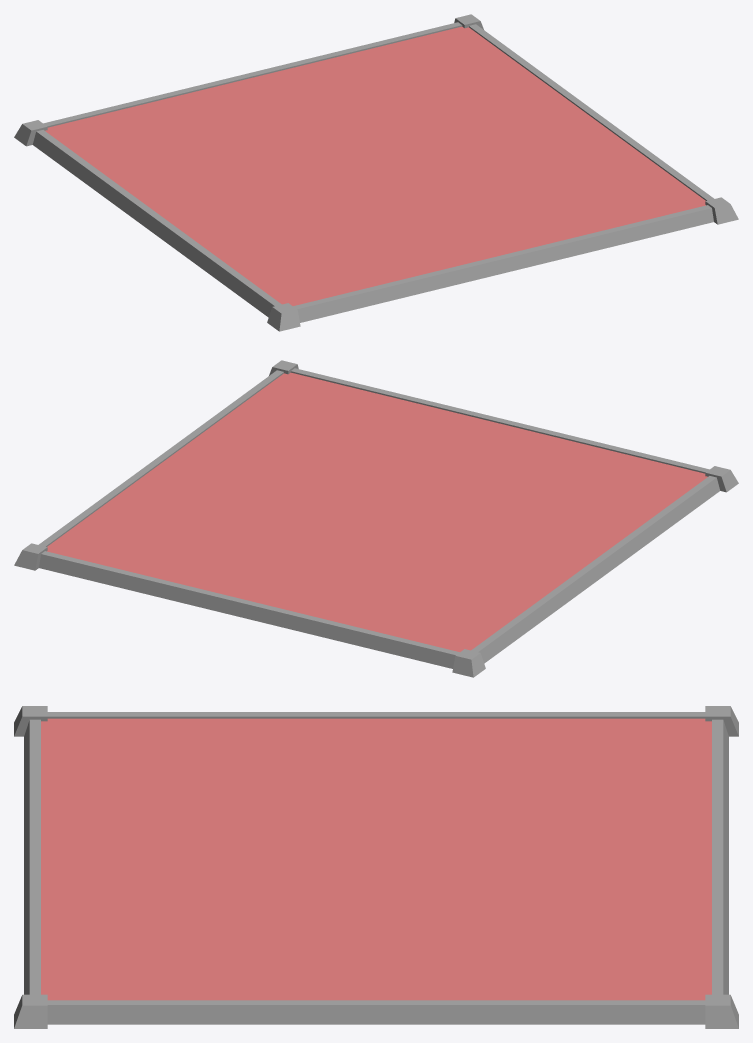
File: SM_Board.fbx
3 renders of one model, top to bottom at view 1: azimuth 30°, elevation 25°; view 2: azimuth 150°, elevation 25°; view 3: azimuth 270°, elevation 25°, orthographic. The views are drawn at different scales.
Parts seen in each view (by area): view 1: SM_Board; view 2: SM_Board; view 3: SM_Board.
Part boxes in pixels (left/top/right/bottom): SM_Board: left=14, top=14, right=738, bottom=331; SM_Board: left=14, top=360, right=738, bottom=677; SM_Board: left=14, top=706, right=738, bottom=1028.
Size of the model in its own units: 1080 by 32.7 by 1080.
